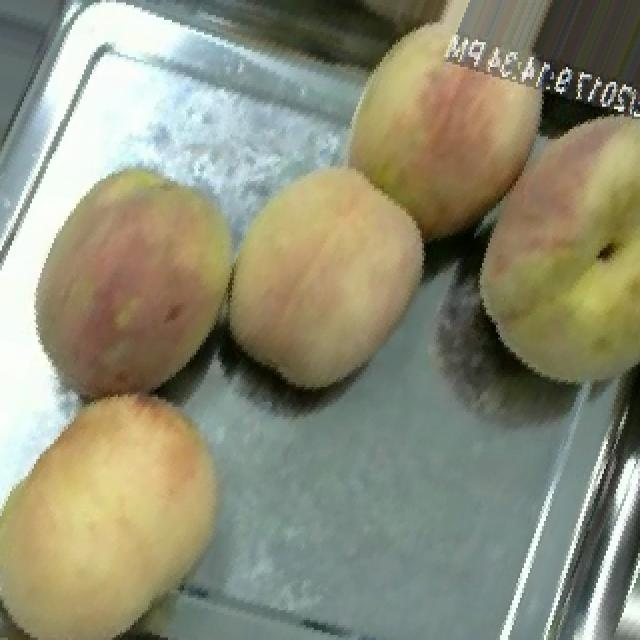Fruit: (0, 137, 248, 434), (216, 134, 460, 417), (318, 0, 576, 263), (0, 364, 244, 640), (440, 80, 640, 414)
